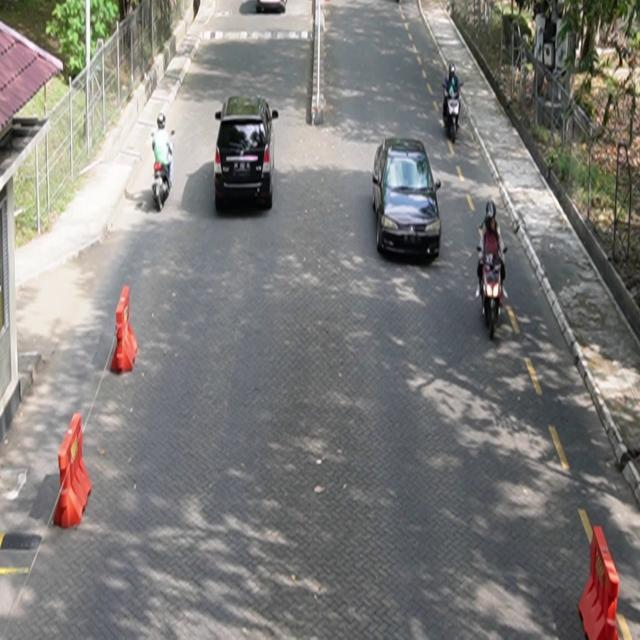car: (373, 137, 442, 262), (215, 95, 279, 212)
